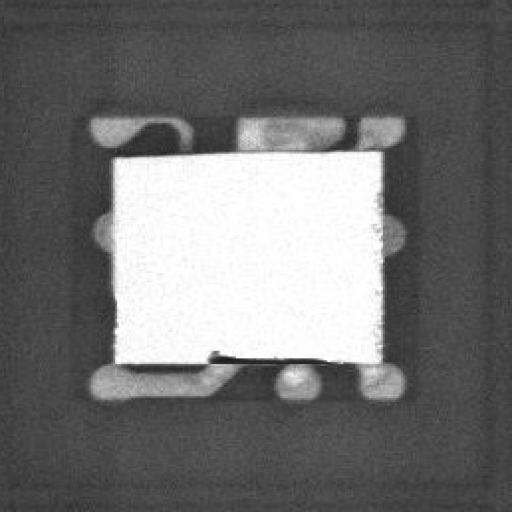DIE_BROKEN: (200, 347, 334, 362)
